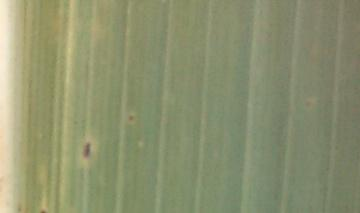-: (76, 138, 99, 163), (125, 111, 136, 125), (36, 205, 52, 213)
